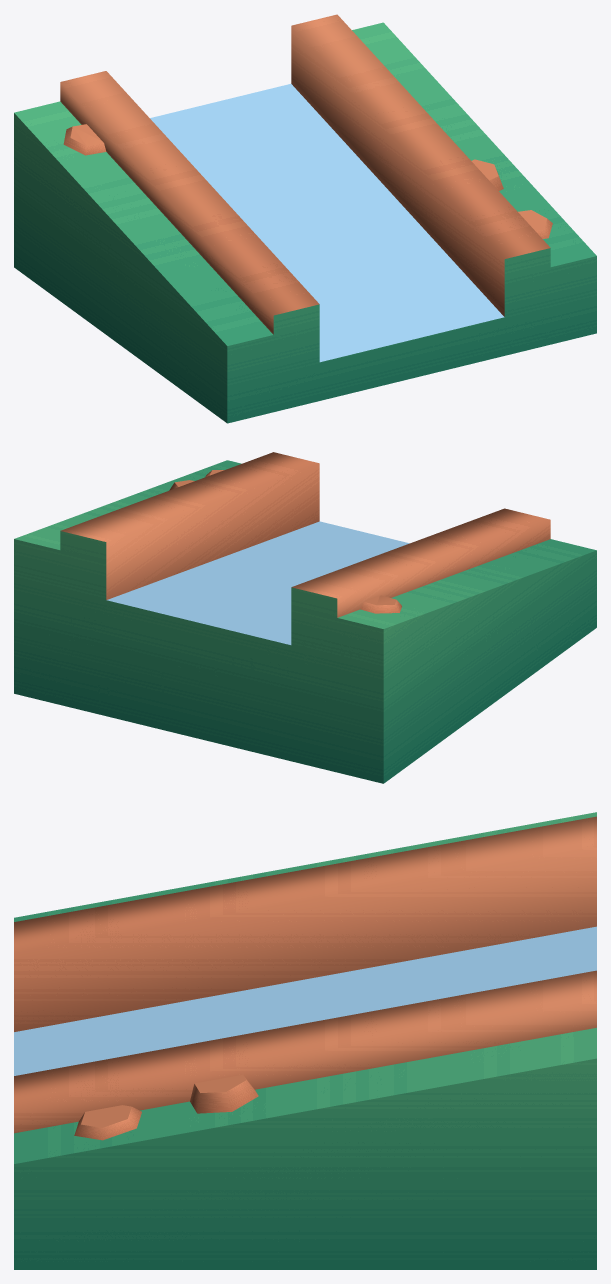
Rendered from tile-river-slope.glb.
The picture shows the model from 3 angles, top to bottom: view 1: azimuth 30°, elevation 25°; view 2: azimuth 150°, elevation 25°; view 3: azimuth 270°, elevation 25°; orthographic projection. The views are drawn at different scales.
Parts seen in each view (by area): view 1: tile-river-slope; view 2: tile-river-slope; view 3: tile-river-slope.
Part boxes in pixels (<box>): tile-river-slope: <box>14,14,596,423</box>; tile-river-slope: <box>14,452,596,783</box>; tile-river-slope: <box>14,812,596,1269</box>.
Bounding box in the file's own units: 1 × 0.45 × 1.
Materials: 1 (1 with a texture image).
